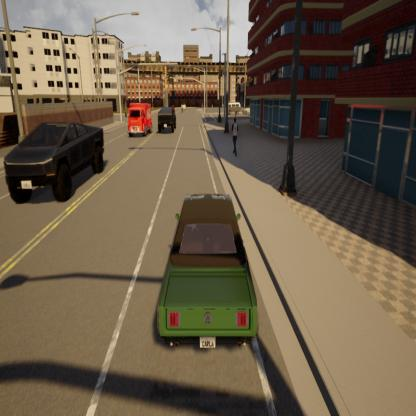Cars: (156, 187, 270, 366), (2, 115, 109, 210), (126, 102, 155, 138), (156, 105, 178, 136), (226, 101, 242, 117), (180, 101, 188, 113)
Pedestrian: (228, 116, 243, 162)
